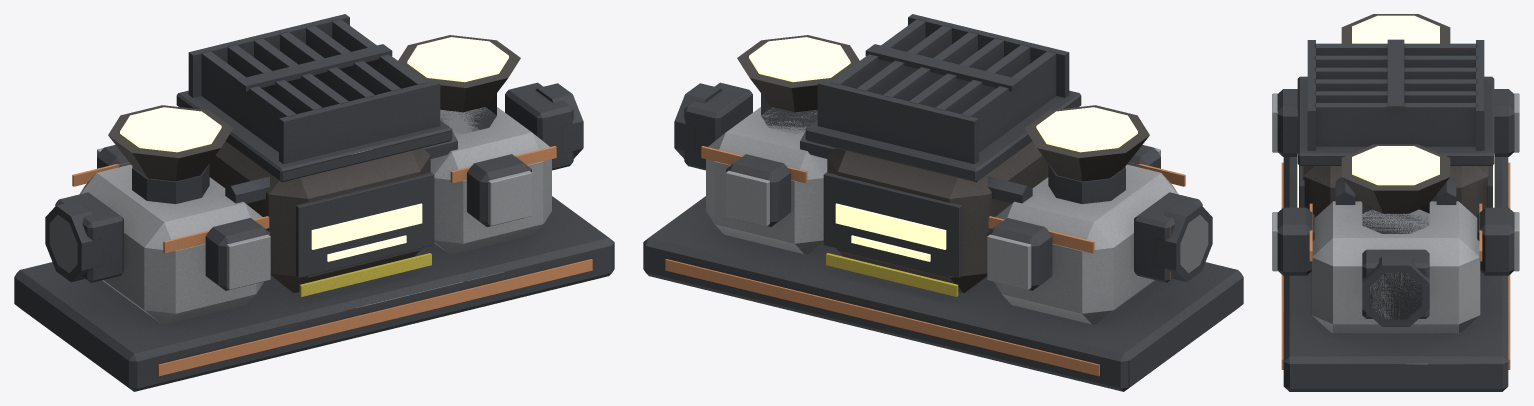
File: SM_Refinery.fbx
3 views of the same model, side by side, from view 1: azimuth 30°, elevation 25°; view 2: azimuth 150°, elevation 25°; view 3: azimuth 270°, elevation 25° (orthographic). The views are drawn at different scales.
Parts seen in each view (by area): view 1: SMN_Refinery, Glow; view 2: SMN_Refinery, Glow; view 3: SMN_Refinery, Glow.
Part boxes in pixels (box(x1,y1,x2,y2)): SMN_Refinery: box(14, 14, 614, 391); Glow: box(120, 37, 508, 261); SMN_Refinery: box(643, 14, 1243, 391); Glow: box(749, 37, 1137, 261); SMN_Refinery: box(1272, 14, 1519, 391); Glow: box(1297, 15, 1494, 207).
Size of the model in its own units: 1.92 by 0.83 by 0.88.
